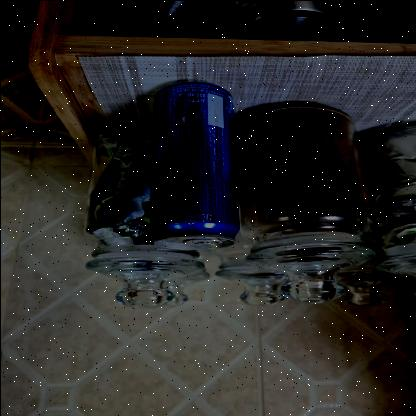Can: (149, 78, 242, 249)
